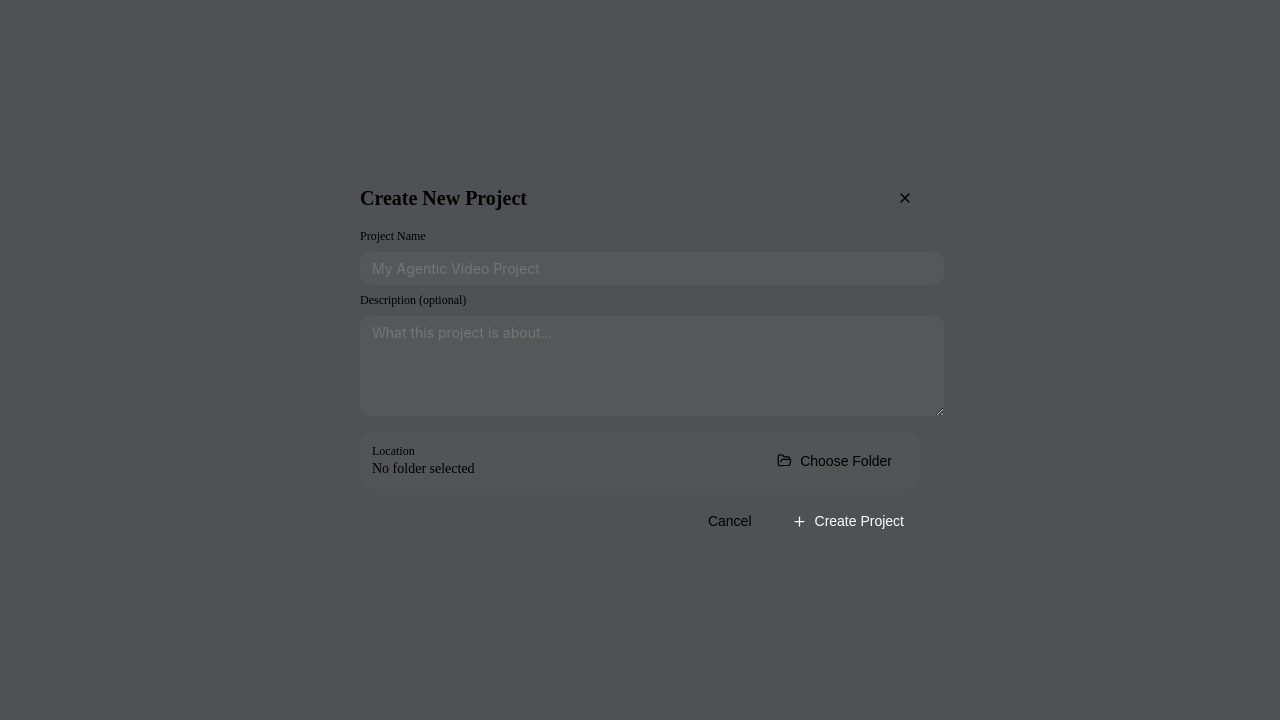
Scenario: NewProjectDialog › shows an error when the selected directory is already a project
Type "demo" into the field named "Project name" at (652, 268), box [360,252,944,285]
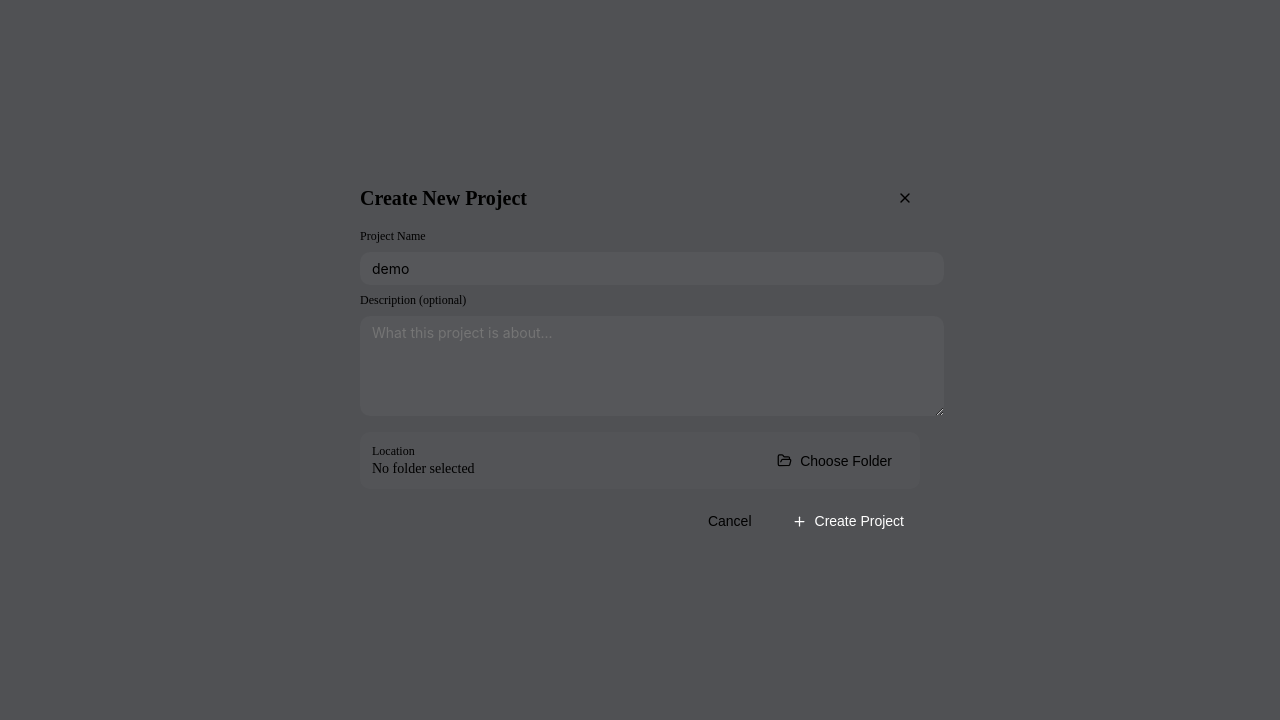
Click the button "Choose Folder" at (835, 460), box [761,444,908,476]
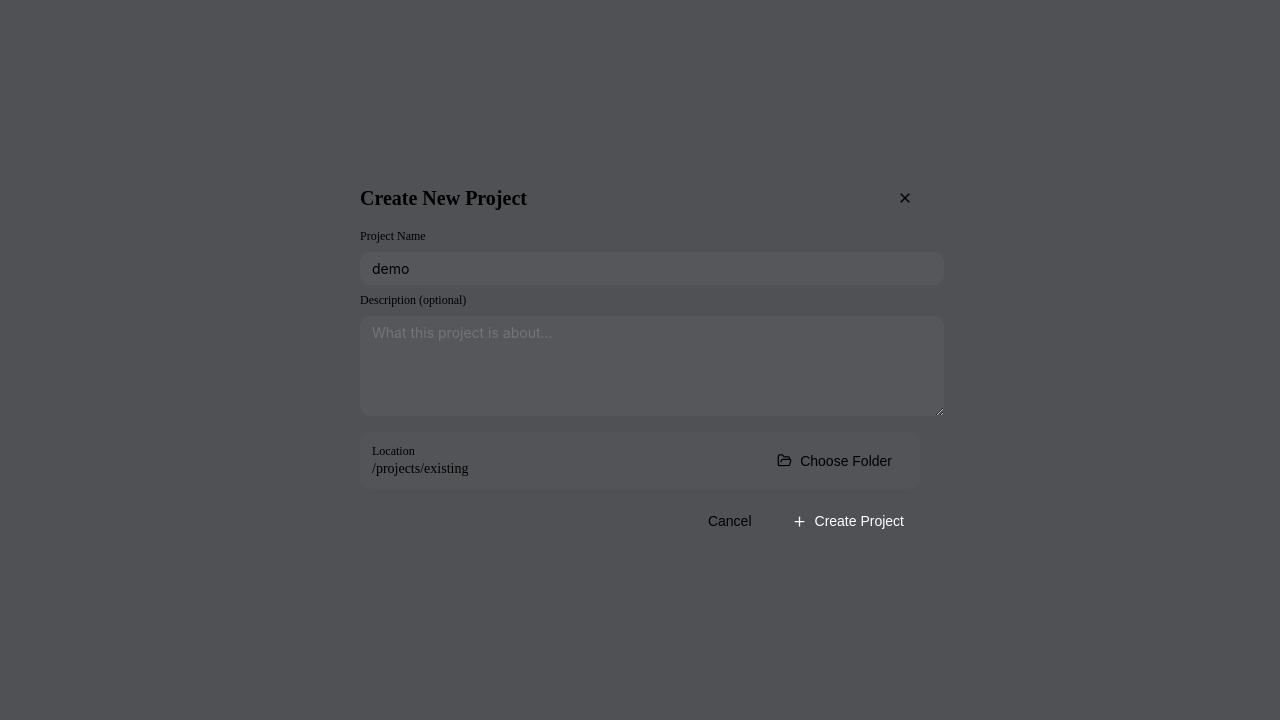
Check: the text "/projects/existing" is shown, box [372,461,468,477]
Click the button "Create Project" at (848, 521), box [776,505,920,537]
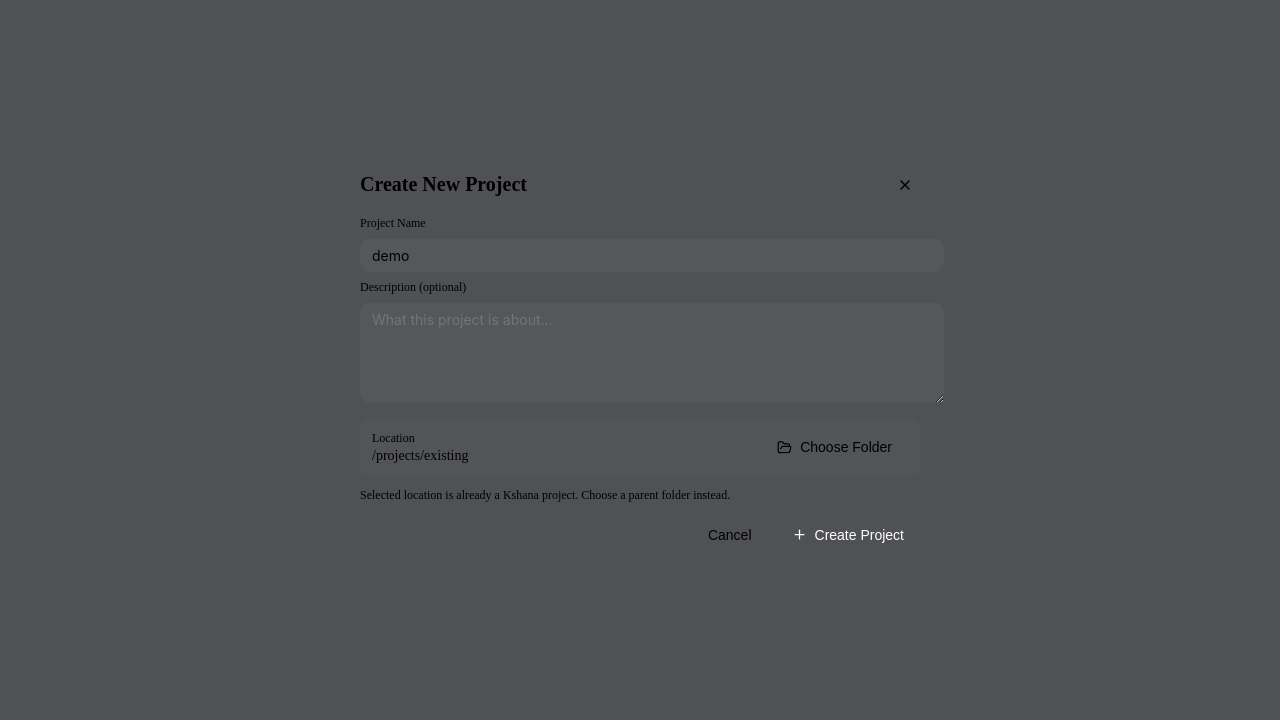
Check: the text "Selected location is already a Kshana project. Choose a parent folder instead." is shown, box [360,488,730,502]
